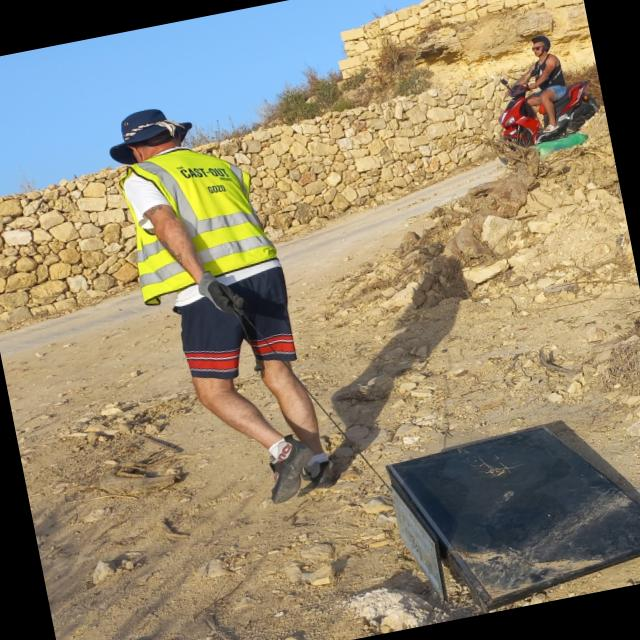Other litter: (233, 310, 640, 612)
Plastic bag - wrapper: (534, 133, 589, 159)
